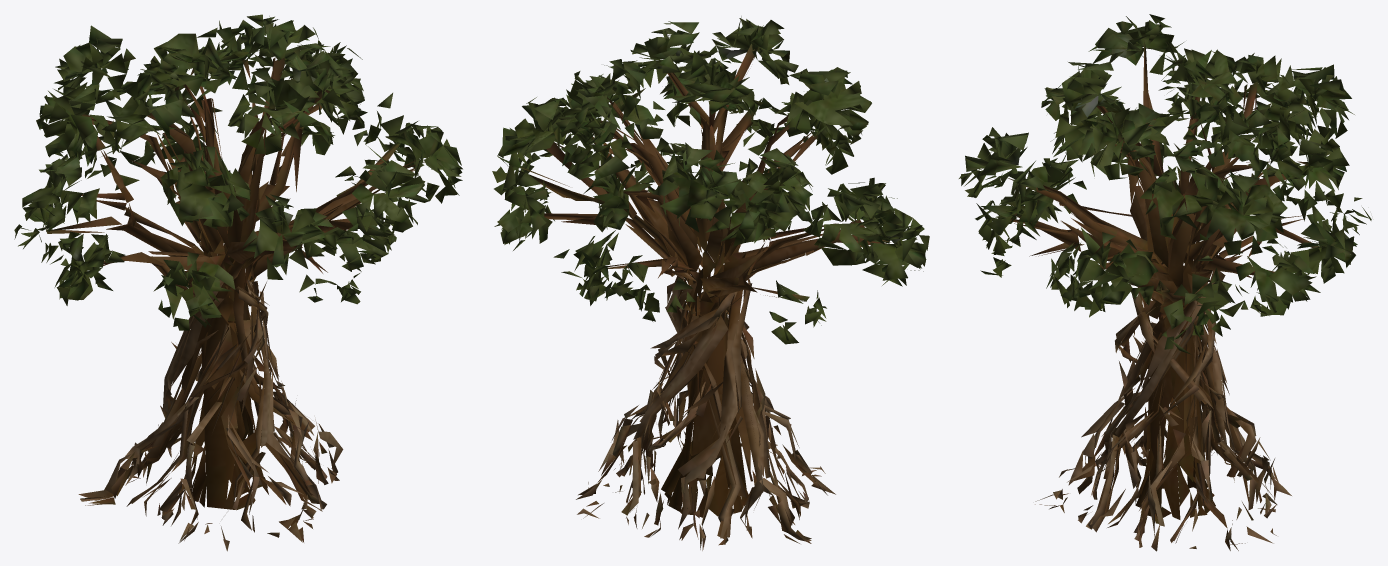
The model's file is jun_strangler_fig_tree_LOD2.glb.
3 views of the same model, side by side, from view 1: azimuth 30°, elevation 25°; view 2: azimuth 150°, elevation 25°; view 3: azimuth 270°, elevation 25° (orthographic).
Parts seen in each view (by area): view 1: tripo_node_99fa390e-cb52-41d6-ba5c-23c81ccb37db; view 2: tripo_node_99fa390e-cb52-41d6-ba5c-23c81ccb37db; view 3: tripo_node_99fa390e-cb52-41d6-ba5c-23c81ccb37db.
Part boxes in pixels (x1,y1,x2,y2): tripo_node_99fa390e-cb52-41d6-ba5c-23c81ccb37db: (14,14,462,551); tripo_node_99fa390e-cb52-41d6-ba5c-23c81ccb37db: (492,16,929,550); tripo_node_99fa390e-cb52-41d6-ba5c-23c81ccb37db: (959,14,1371,551).
Size of the model in its own units: 0.9179 by 1.01 by 0.8501.
Materials: 1 (1 with a texture image).
